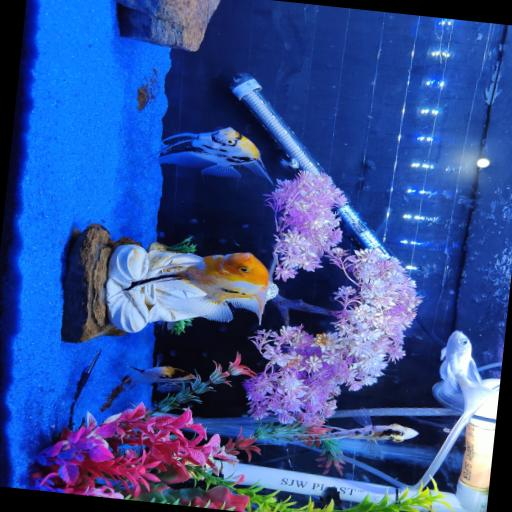Fish: (124, 253, 268, 324), (157, 127, 272, 183), (439, 331, 493, 409), (321, 416, 417, 457), (439, 331, 480, 391), (128, 366, 194, 388)
